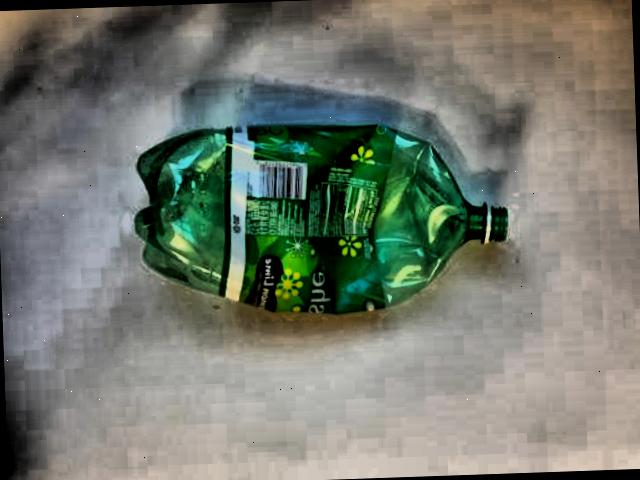Bottles: (120, 101, 522, 343)
